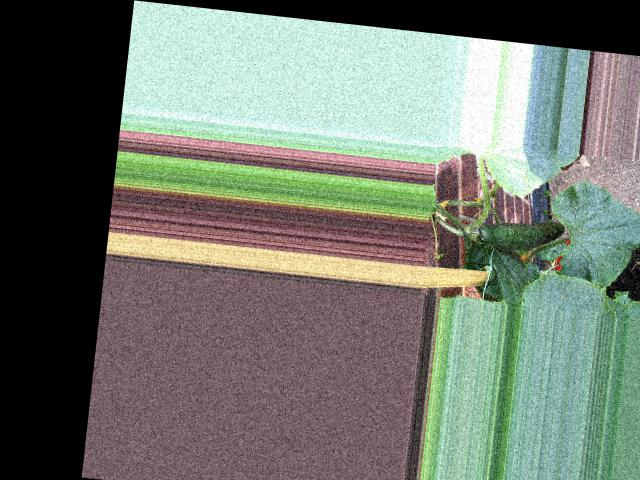cucumber: (476, 212, 565, 255)
